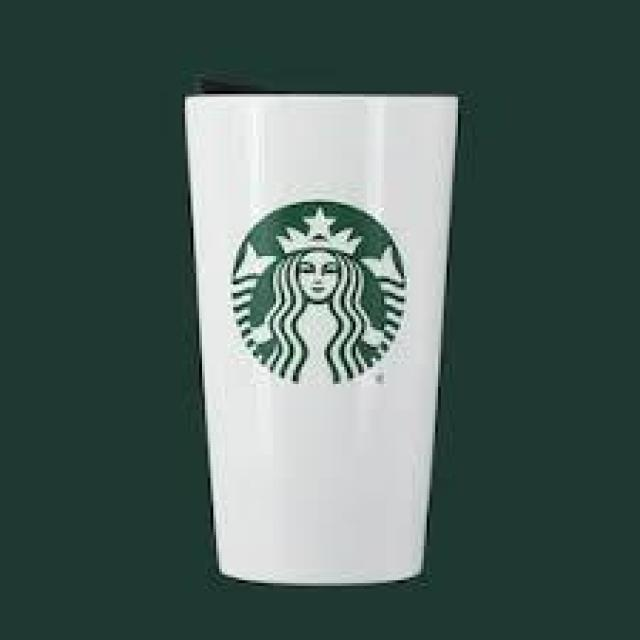bottle: (185, 97, 458, 580)
